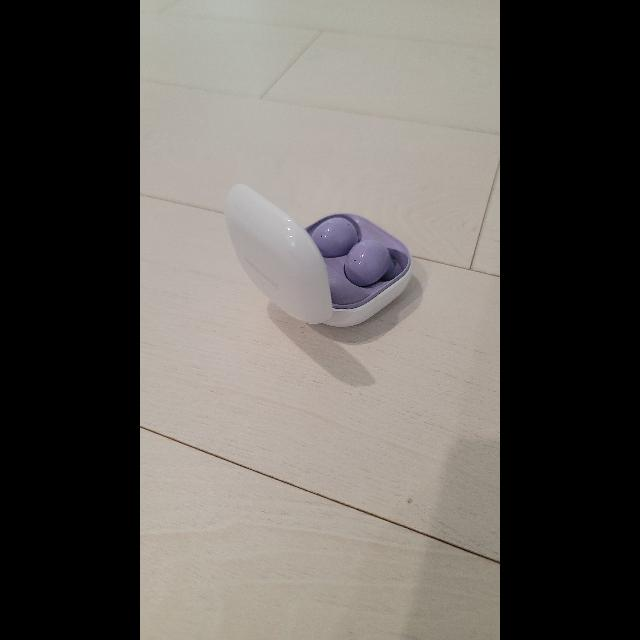GALAXY-BUDS-2: (225, 180, 412, 324)
